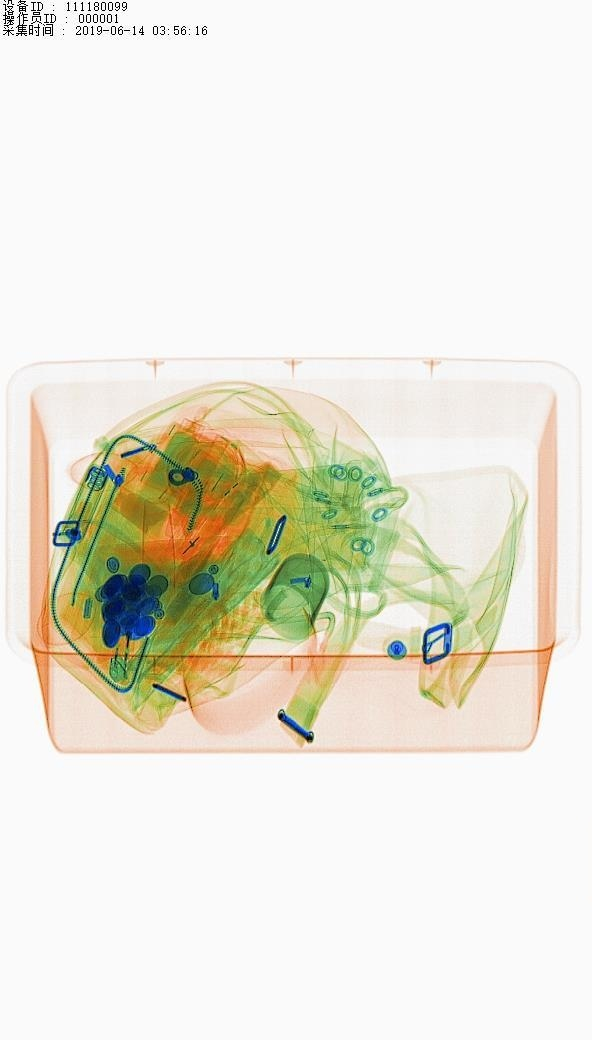NonmetallicFire: (106, 600, 156, 721)
